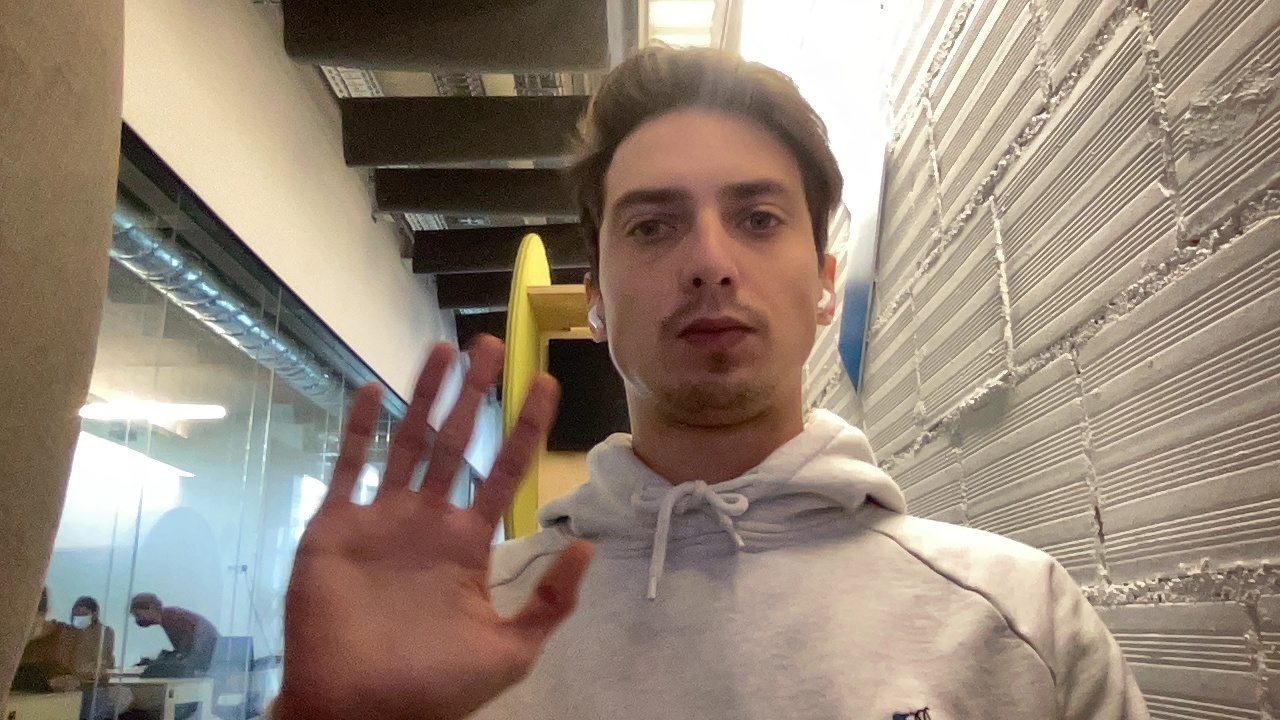Hello: (228, 281, 595, 720)
